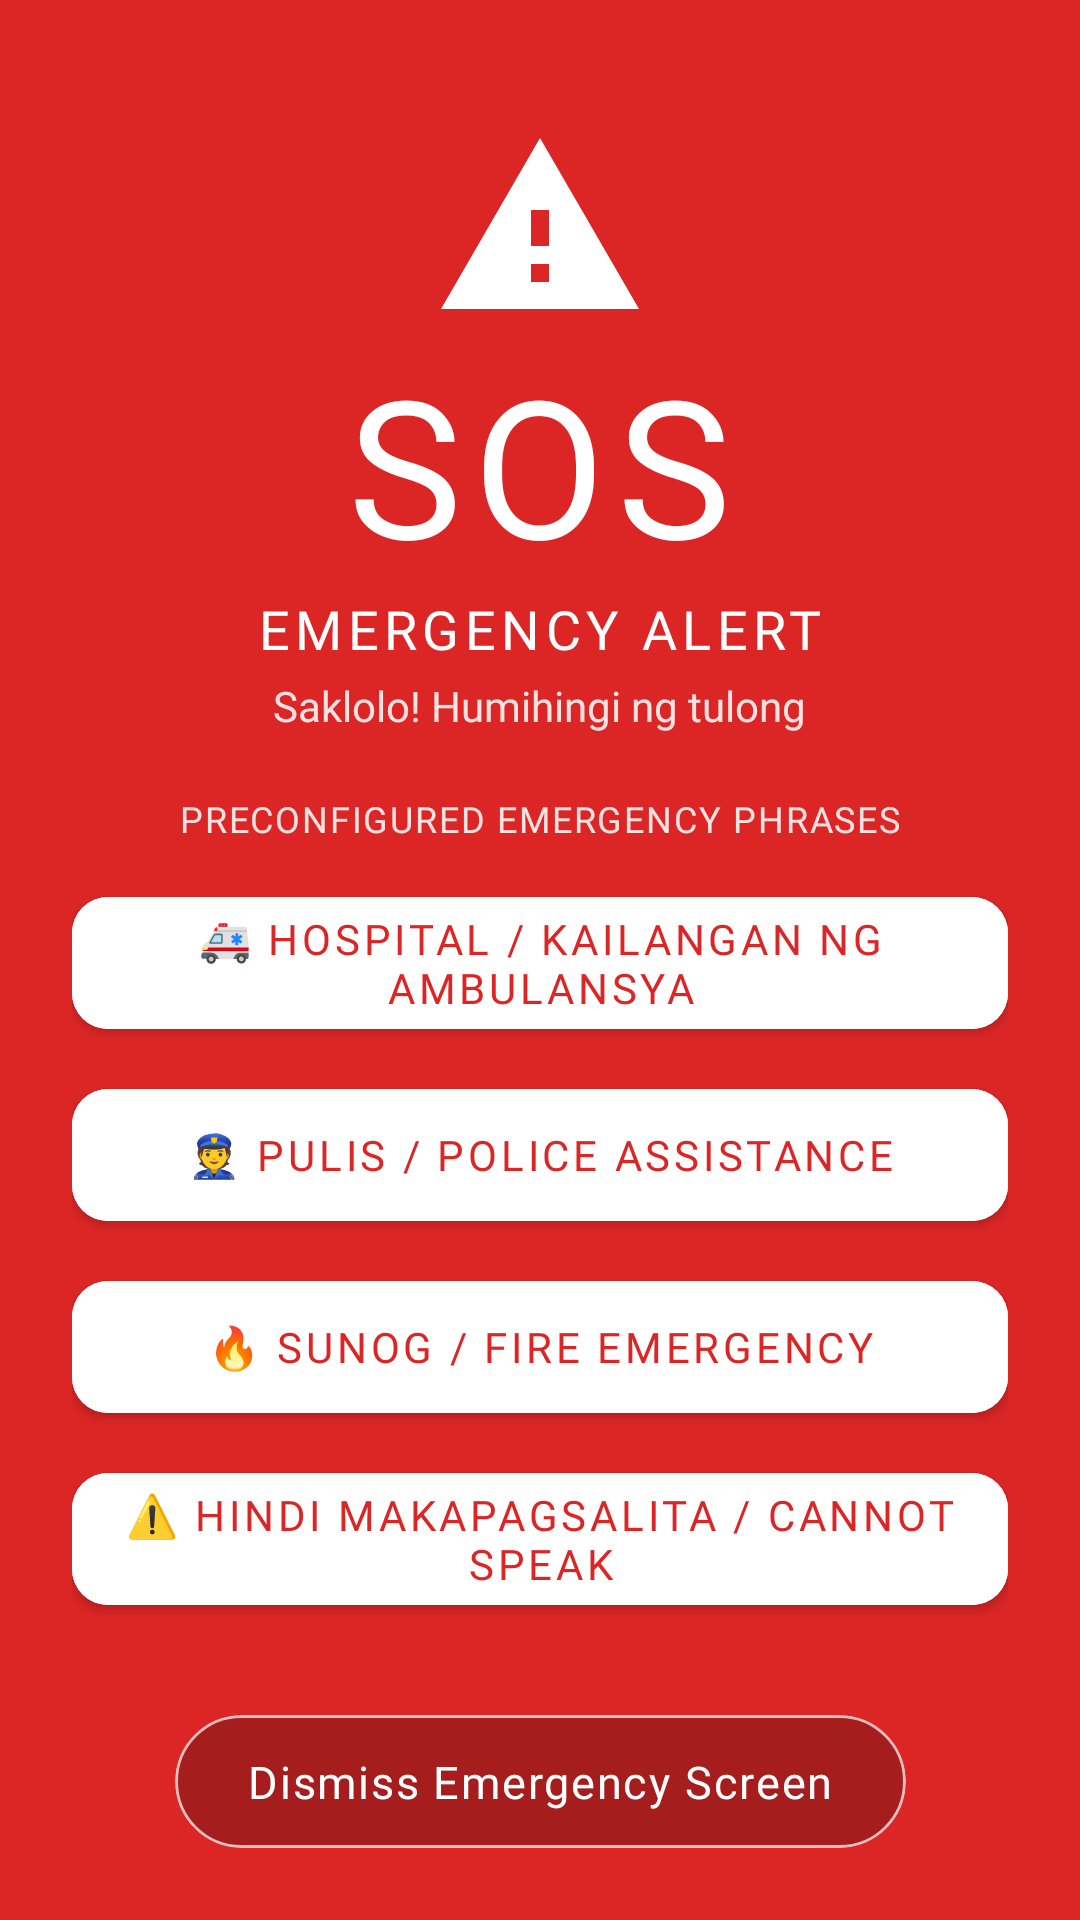

Locate icon controls on the screen. Image size 1080x1920, boxes as (x1,y1,x2,y2).
Emergency Warning: (441,138,639,309)
